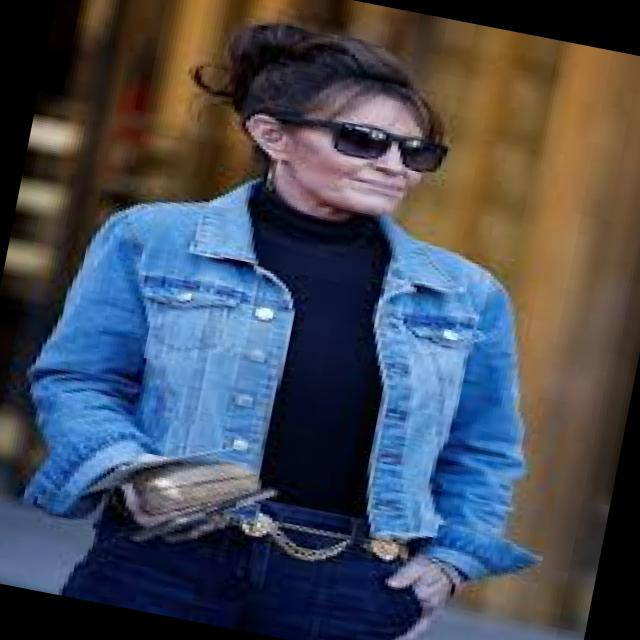Jacket: (0, 136, 616, 621)
